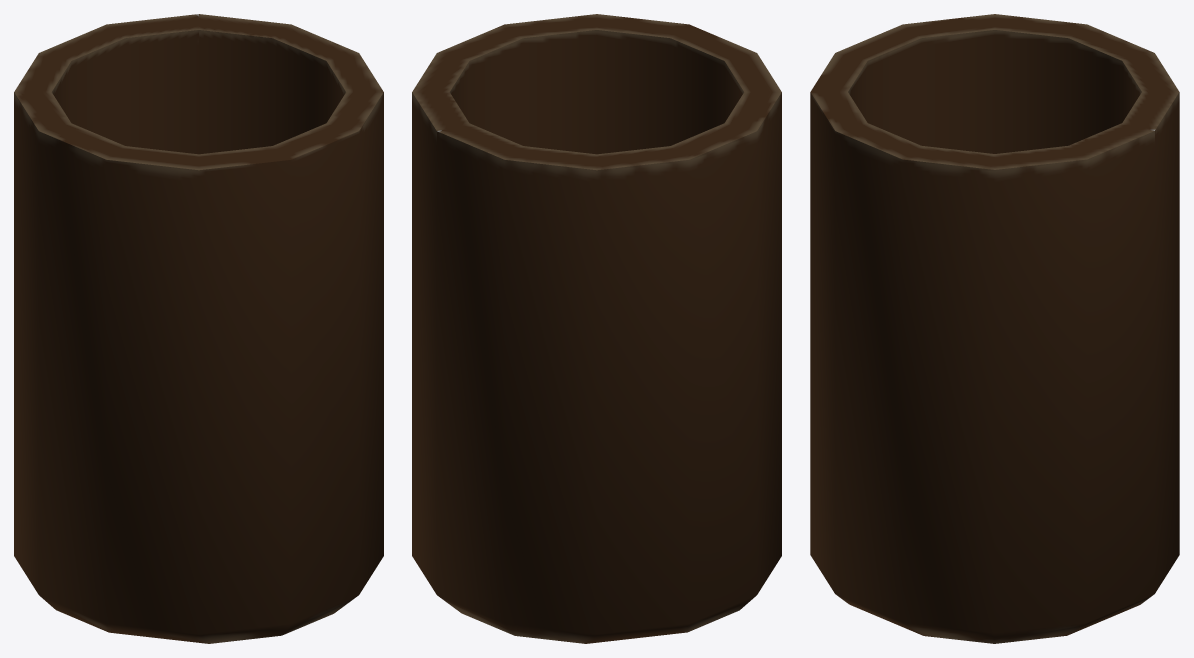
The model's file is Cup.glb.
The picture shows the model from 3 angles, left to right: view 1: azimuth 30°, elevation 25°; view 2: azimuth 150°, elevation 25°; view 3: azimuth 270°, elevation 25°; orthographic projection.
Visible parts, largest first — view 1: Mug.002; view 2: Mug.002; view 3: Mug.002.
Boxes of the visible parts, x1=… form: Mug.002: x1=14, y1=14, x2=383, y2=643; Mug.002: x1=412, y1=14, x2=781, y2=643; Mug.002: x1=810, y1=14, x2=1179, y2=643.
Bounding box in the file's own units: 0.0735 × 0.106 × 0.0735.
1 material, 1 textured.
